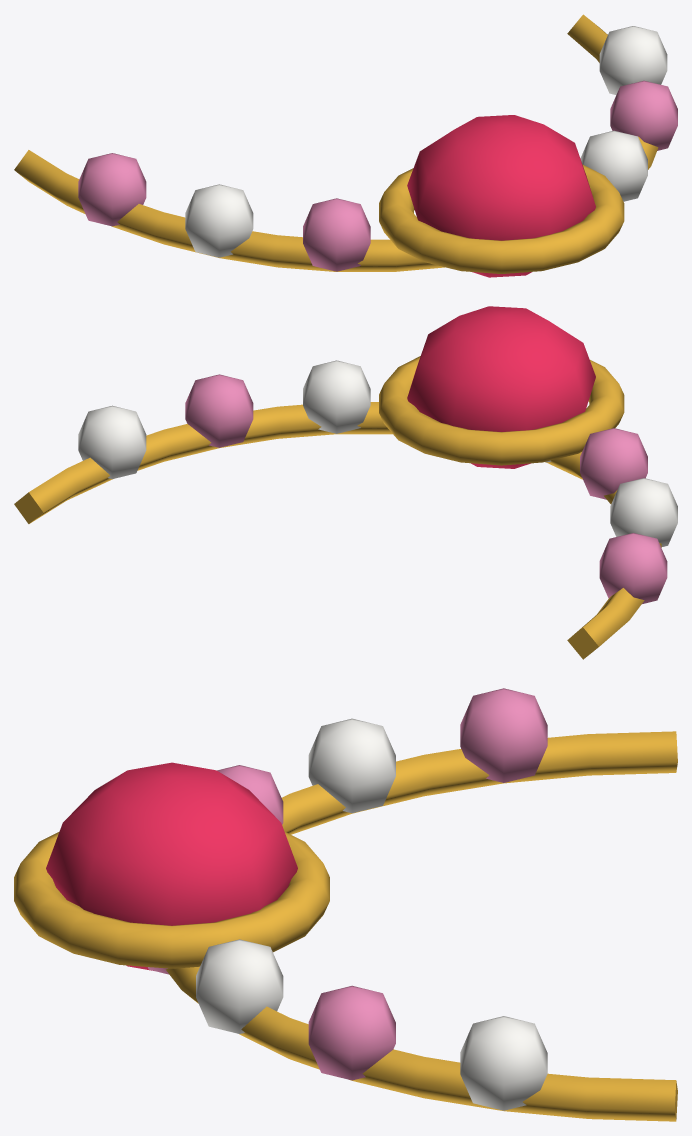
Rendered from necklace.glb.
3 views of the same model, one above another, from view 1: azimuth 30°, elevation 25°; view 2: azimuth 150°, elevation 25°; view 3: azimuth 270°, elevation 25° (orthographic). The views are drawn at different scales.
Visible parts, largest first — view 1: root; view 2: root; view 3: root.
Part boxes in pixels (box(x1,y1,x2,y2)): root: box(14, 14, 677, 277); root: box(14, 306, 677, 659); root: box(14, 688, 677, 1121).
Size of the model in its own units: 0.3823 by 0.088 by 0.2897.
